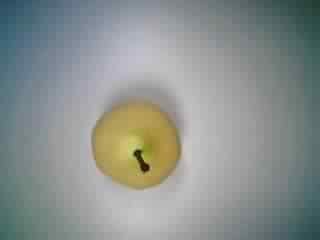pear: (79, 96, 188, 198)
